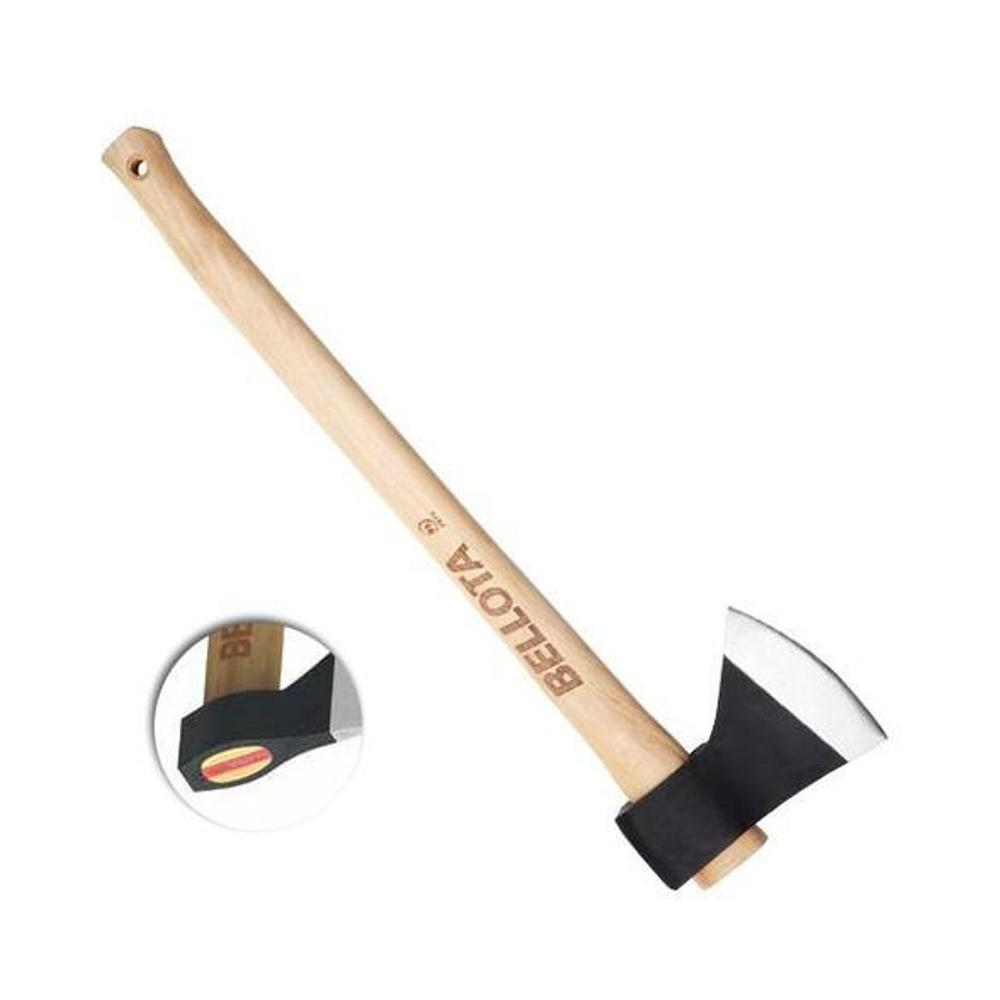machado: (103, 127, 885, 888)
